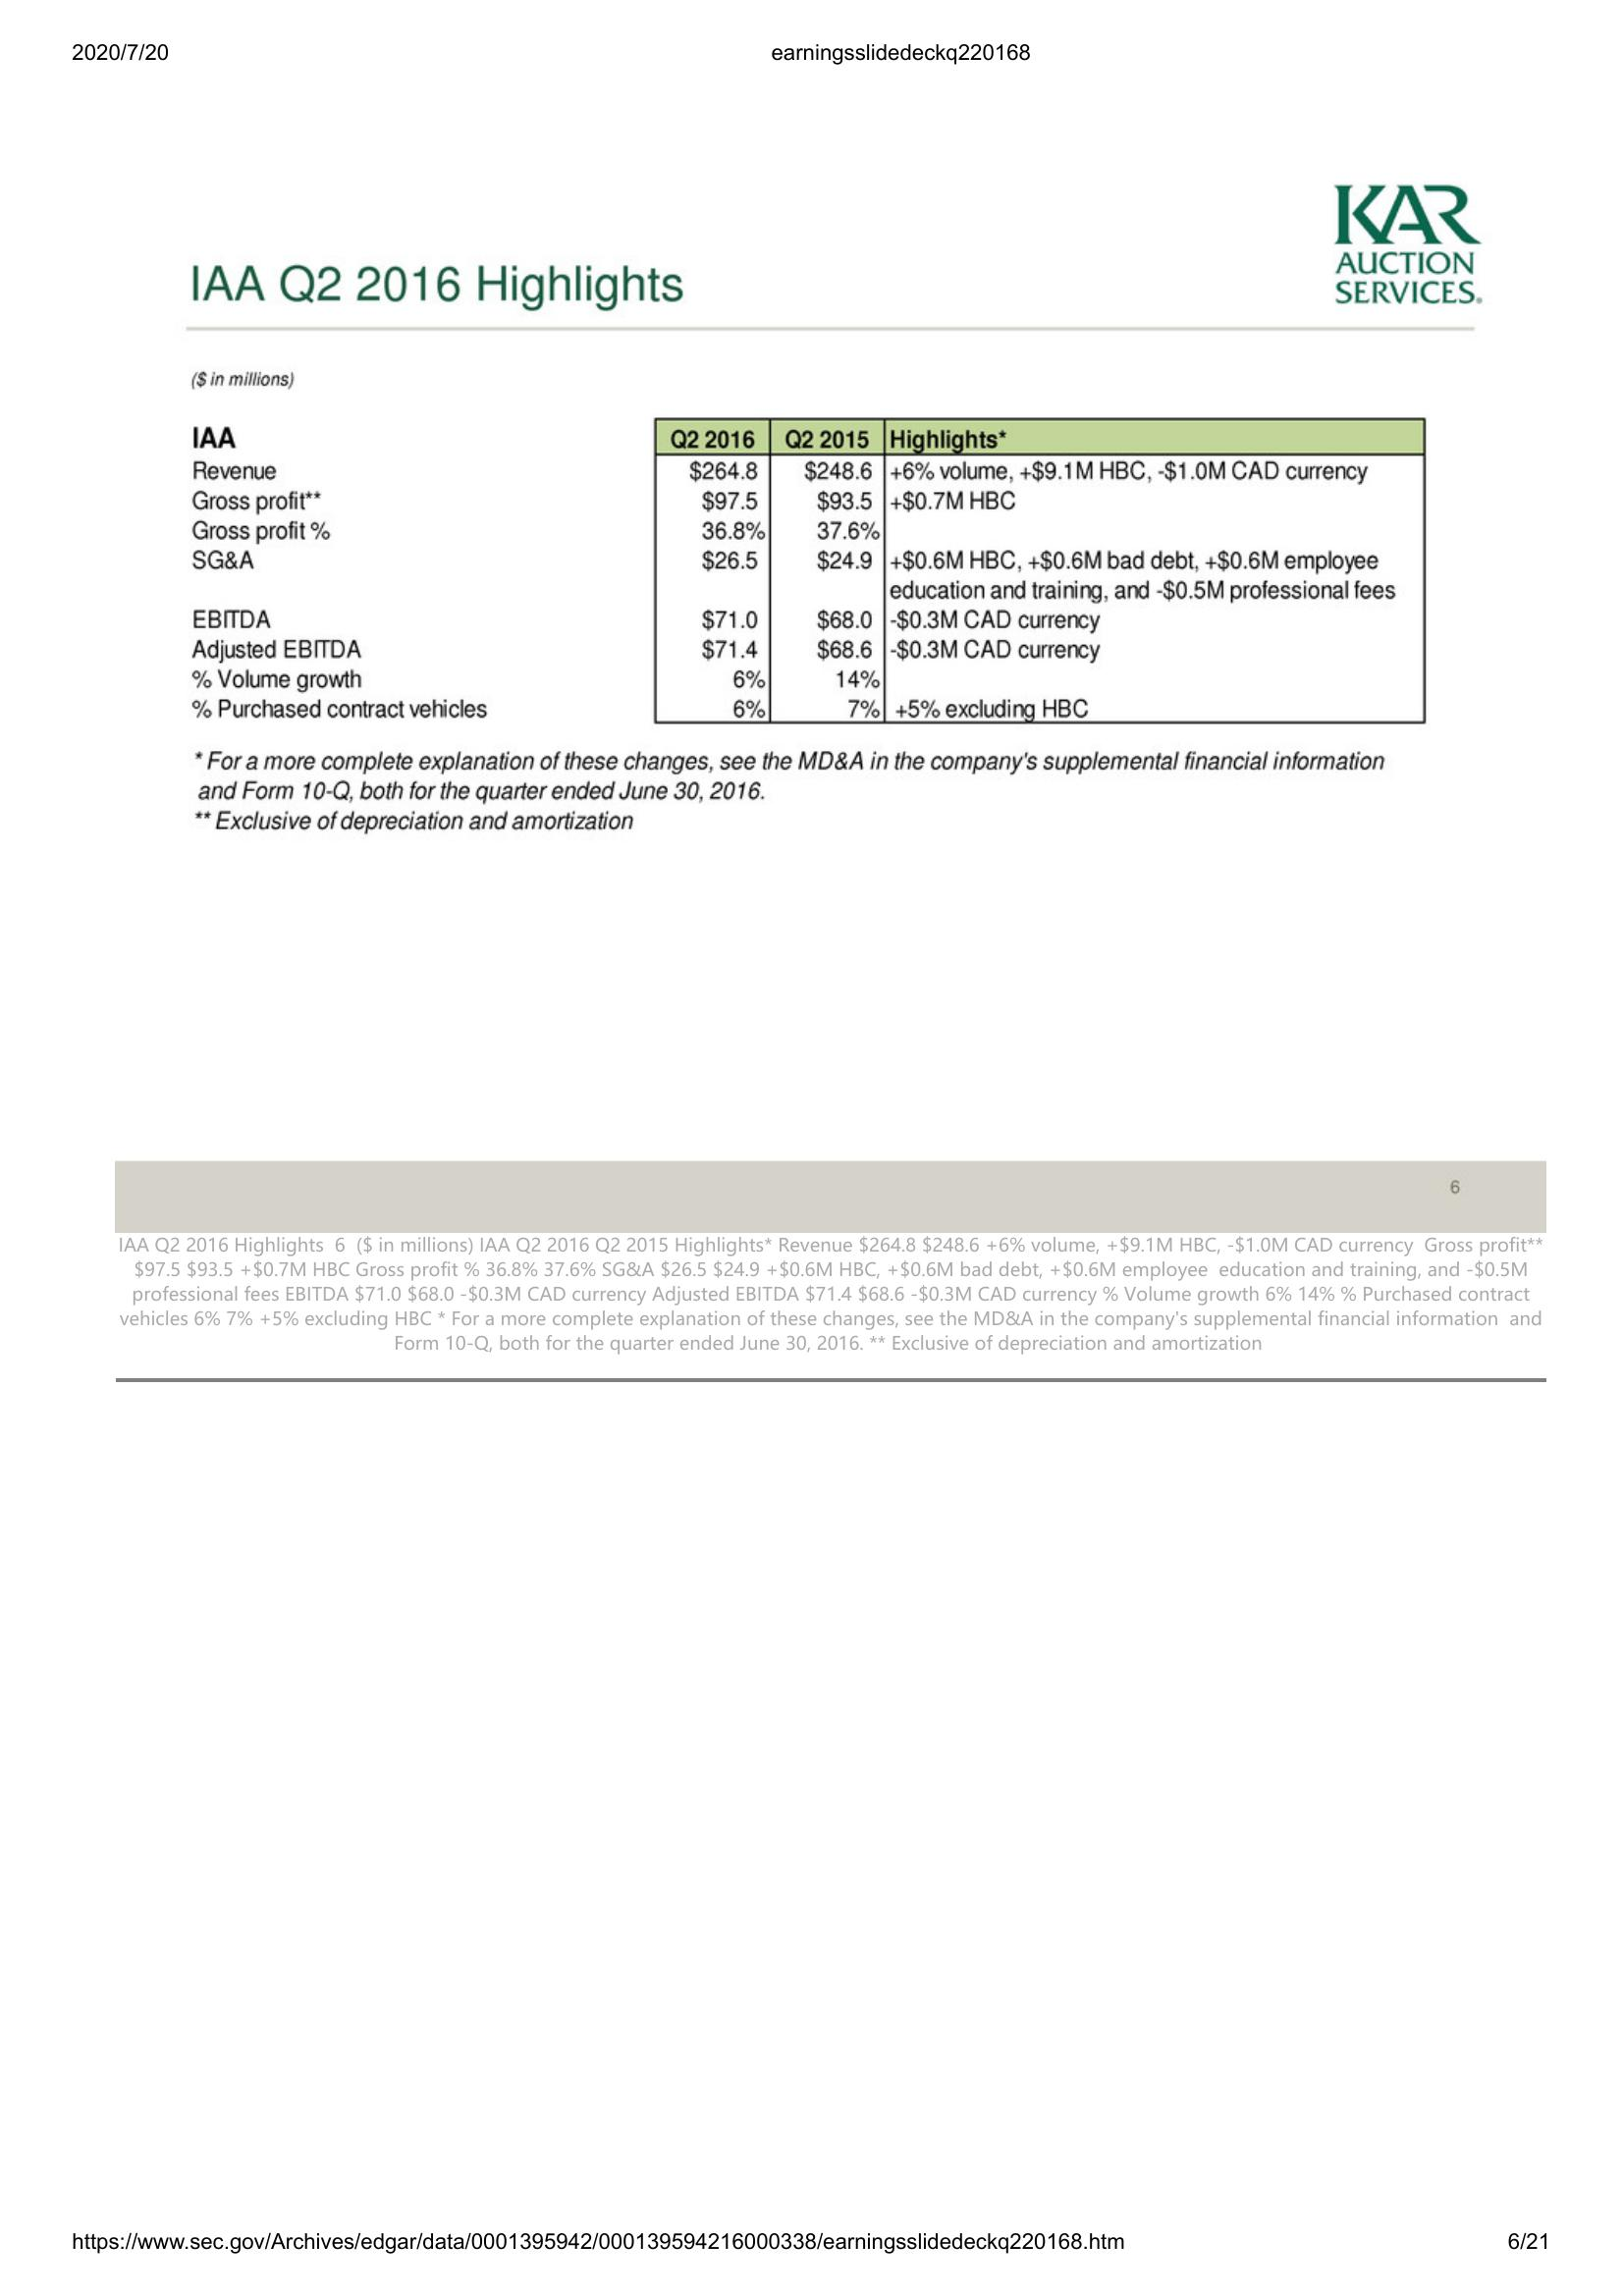table: (646, 416, 1440, 732)
